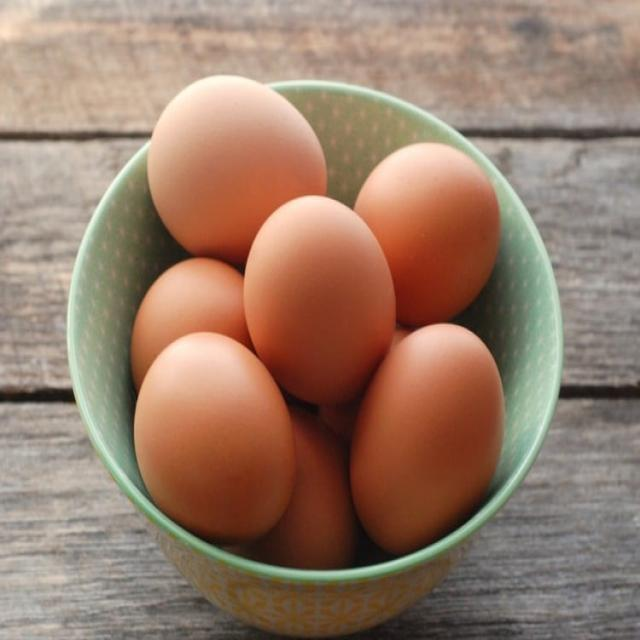egg: (351, 324, 506, 555), (134, 332, 296, 542), (148, 75, 328, 262), (244, 196, 397, 405), (356, 142, 502, 327)
